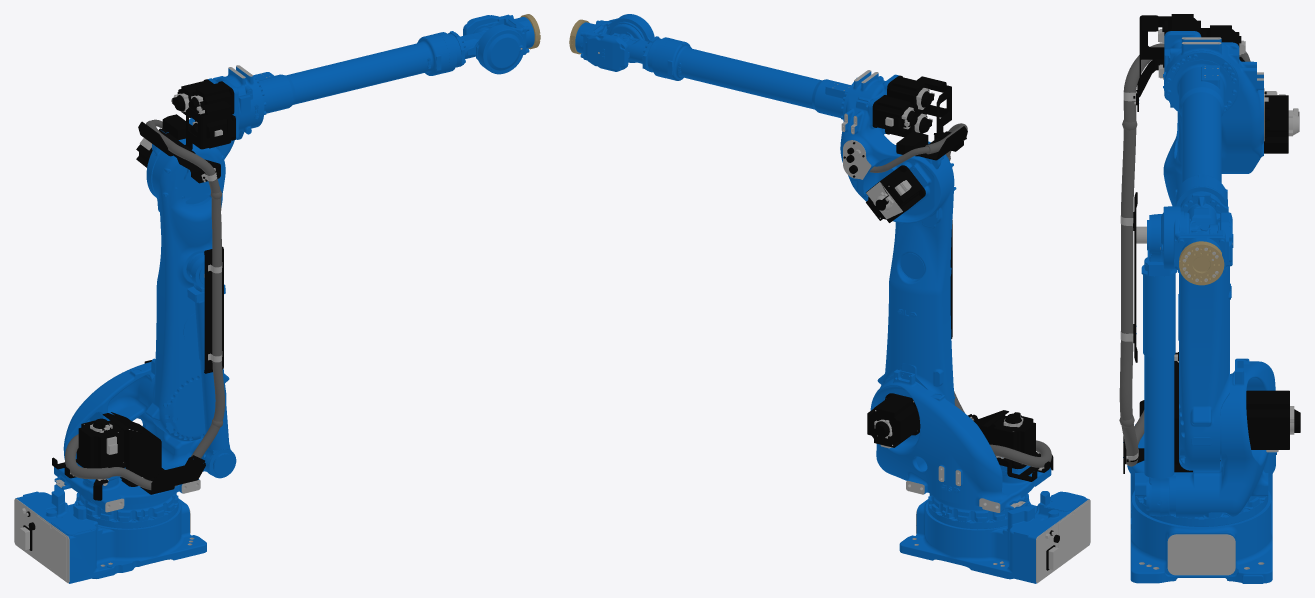
Rendered from Yaskawa_GP180_120.glb.
3 renders of one model, left to right at view 1: azimuth 30°, elevation 25°; view 2: azimuth 150°, elevation 25°; view 3: azimuth 270°, elevation 25°, orthographic. The views are drawn at different scales.
Parts seen in each view (by area): view 1: link_2, link_3, link_1, link_0, link_5; view 2: link_3, link_1, link_0, link_2, link_5, link_4; view 3: link_2, link_3, link_1, link_0, link_5, link_6, link_4.
Boxes of the visible parts, x1,y1,x2,y2 form: link_2: [145, 138, 236, 478]; link_3: [136, 32, 461, 211]; link_1: [52, 360, 220, 512]; link_0: [14, 484, 206, 583]; link_5: [463, 14, 534, 74]; link_3: [647, 37, 967, 223]; link_1: [867, 369, 1053, 512]; link_0: [899, 491, 1090, 583]; link_2: [877, 141, 956, 404]; link_5: [575, 14, 654, 71]; link_4: [609, 21, 661, 72]; link_2: [1119, 112, 1231, 516]; link_3: [1123, 14, 1299, 206]; link_1: [1121, 352, 1300, 517]; link_0: [1130, 474, 1272, 583]; link_5: [1160, 206, 1233, 274]; link_6: [1179, 241, 1224, 285]; link_4: [1180, 193, 1228, 234].
Bounding box in the file's own units: 2.62 × 2.25 × 0.6382.
